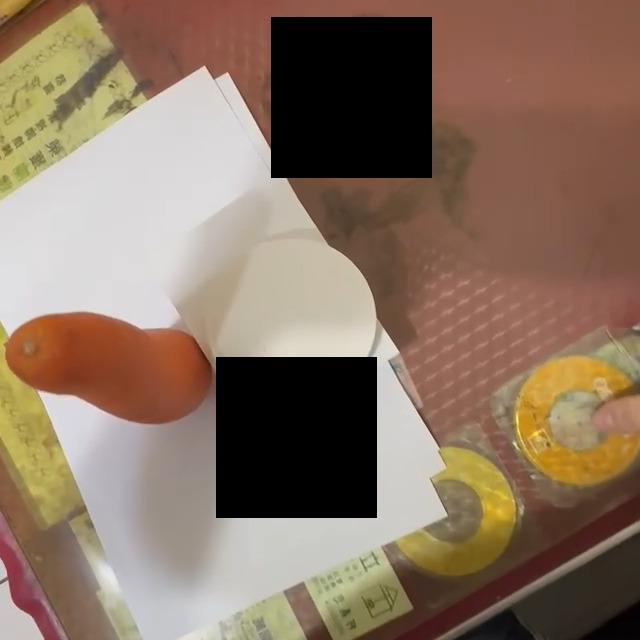carrot: (3, 311, 212, 429)
